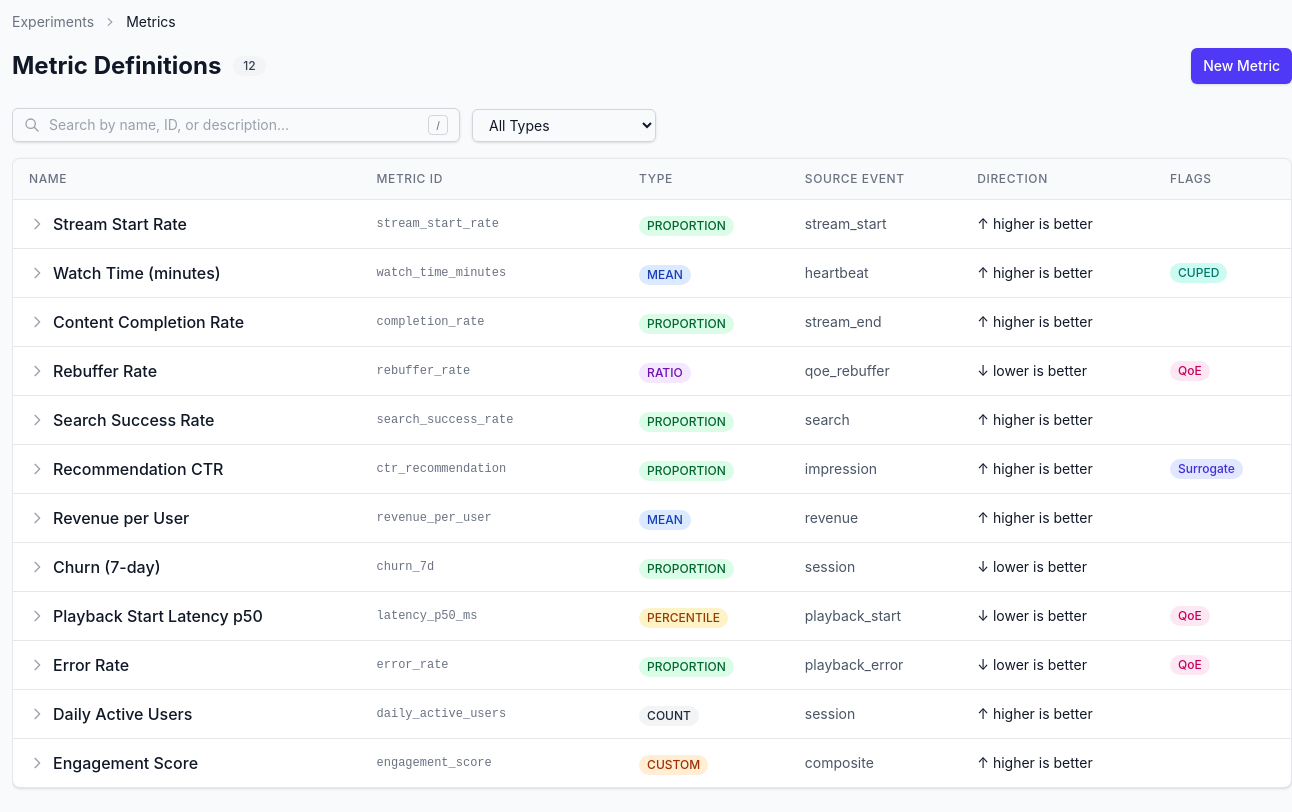
Test case: Search Clear Buttons Focus Restoration › MetricBrowserPage restores focus to search input when empty-state Clear filters is clicked
Step 1. Type "nonexistent-metric-xyz" into the field with placeholder "Search by name, ID, or description..." → (236, 125), box [12, 108, 460, 142]
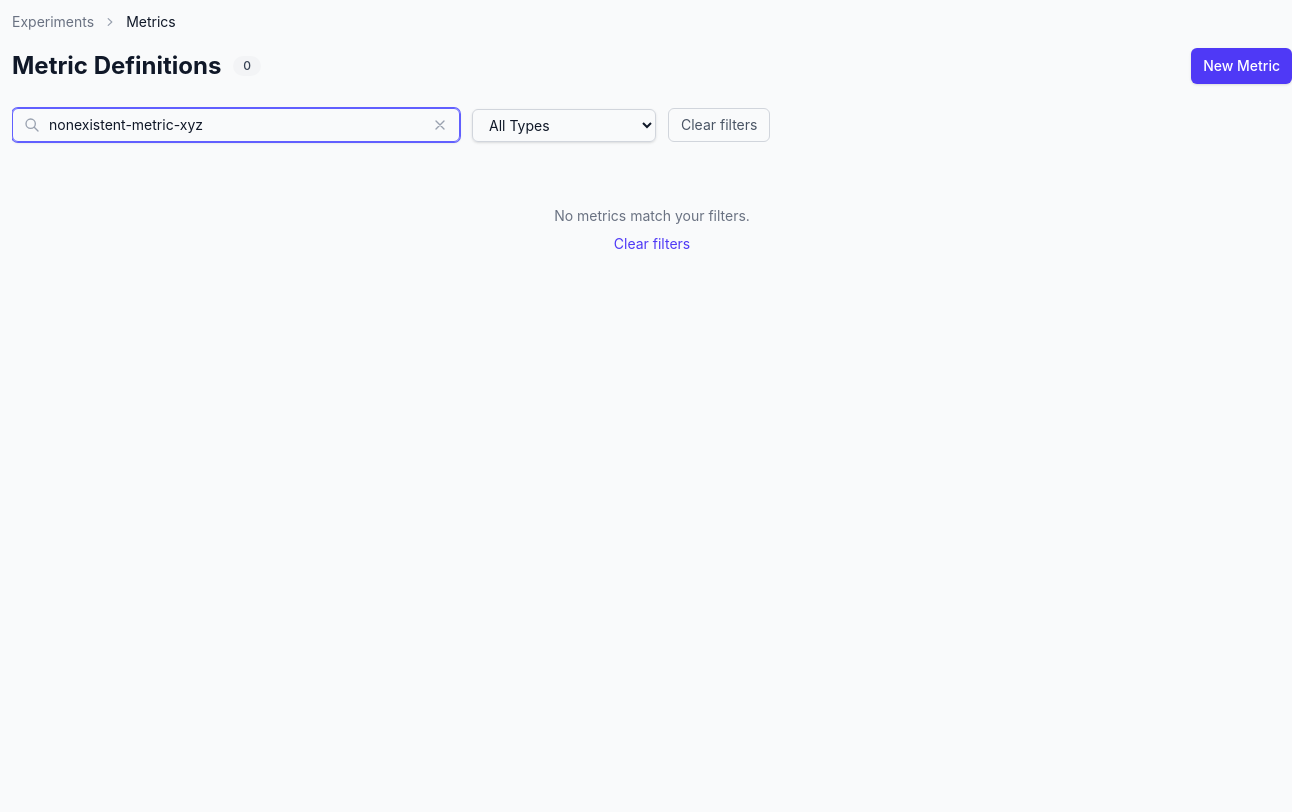
Step 2. Click the button with test id "clear-filters-empty" → (652, 244), box [614, 234, 690, 254]
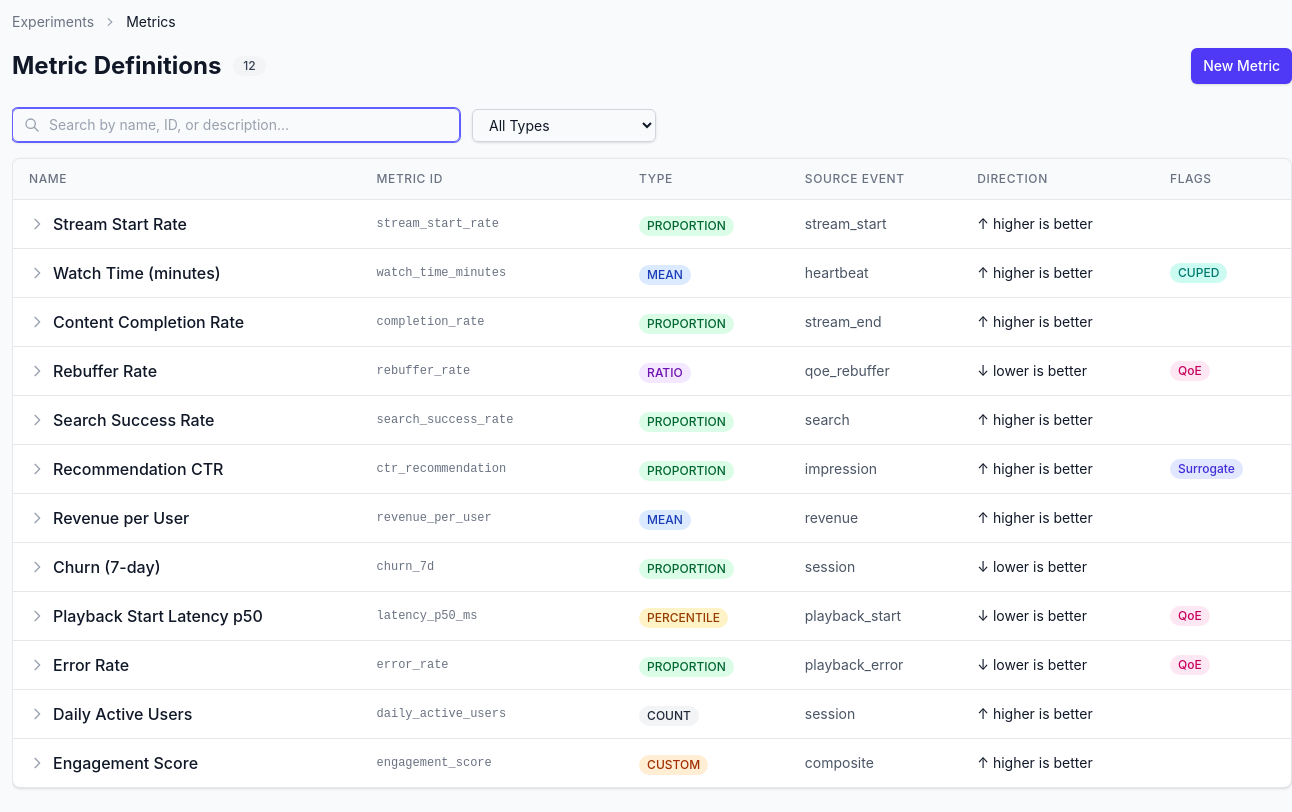
Expected: the field with placeholder "Search by name, ID, or description..." is empty, [12, 108, 460, 142]
